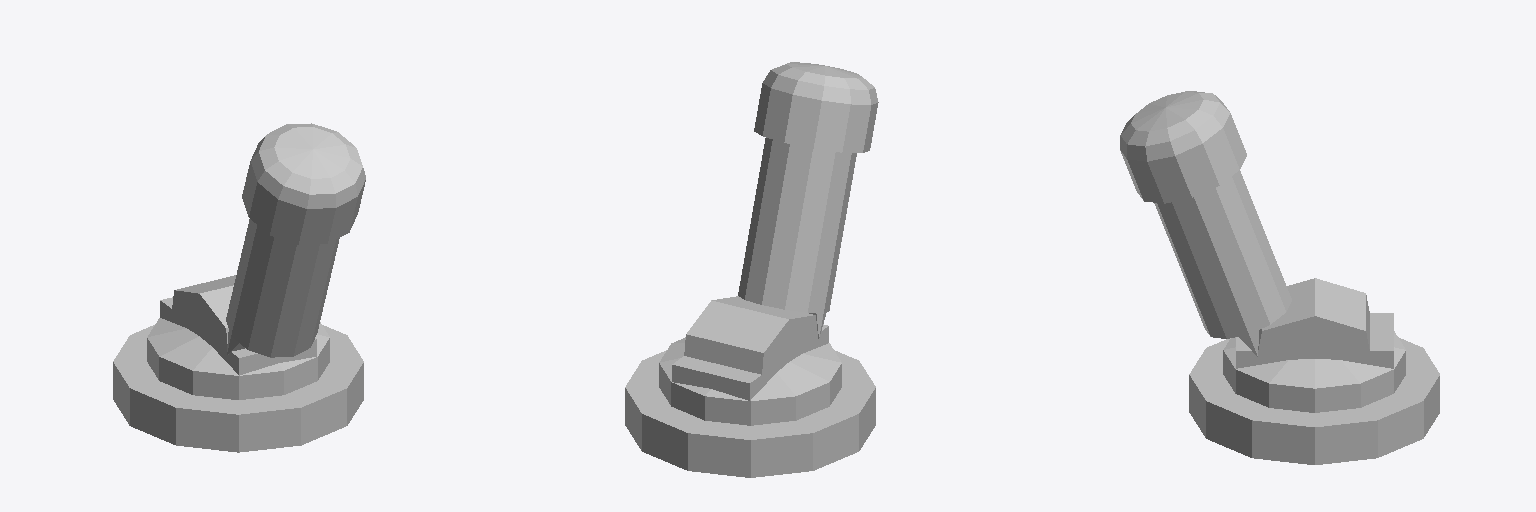
File: Sw_Alert - Off.obj
3 views of the same model, side by side, from view 1: azimuth 30°, elevation 25°; view 2: azimuth 150°, elevation 25°; view 3: azimuth 270°, elevation 25° (orthographic).
Parts seen in each view (by area): view 1: Switch, LockNut, SwitchBase, LockingTine, Slider; view 2: Switch, LockNut, SwitchBase, LockingTine, Slider; view 3: Switch, LockNut, SwitchBase, LockingTine, Slider.
Part boxes in pixels (left/top/right/bottom): Switch: left=226, top=123, right=365, bottom=357; LockNut: left=113, top=325, right=363, bottom=452; SwitchBase: left=147, top=318, right=329, bottom=399; LockingTine: left=172, top=275, right=235, bottom=350; Slider: left=160, top=297, right=316, bottom=375; Switch: left=738, top=62, right=878, bottom=338; LockNut: left=625, top=350, right=875, bottom=477; SwitchBase: left=659, top=337, right=841, bottom=425; LockingTine: left=684, top=296, right=817, bottom=374; Slider: left=672, top=324, right=828, bottom=400; Switch: left=1120, top=91, right=1291, bottom=356; LockNut: left=1189, top=337, right=1439, bottom=464; SwitchBase: left=1223, top=331, right=1405, bottom=412; LockingTine: left=1258, top=278, right=1369, bottom=352; Slider: left=1236, top=313, right=1393, bottom=368.
Bounding box in the file's own units: 6 × 8.25 × 7.66.